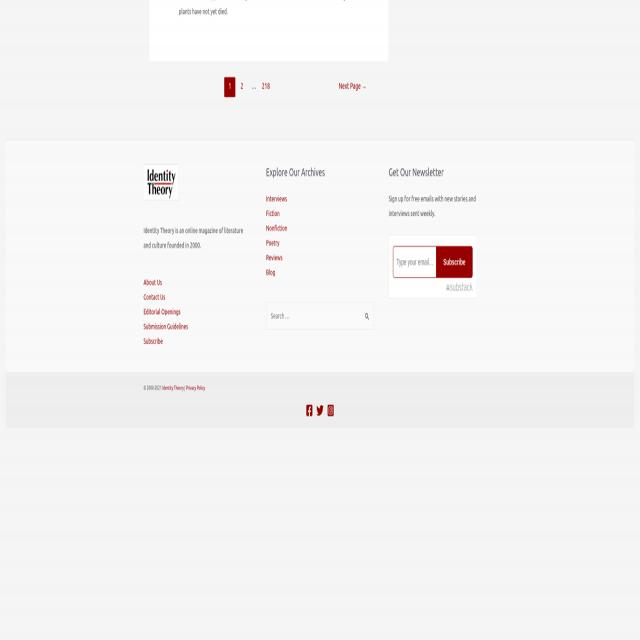button: (143, 164, 179, 201), (436, 245, 473, 278), (316, 404, 324, 417), (306, 404, 313, 417), (327, 404, 334, 417), (365, 312, 369, 320)
field: (266, 302, 374, 330), (393, 245, 436, 278)
